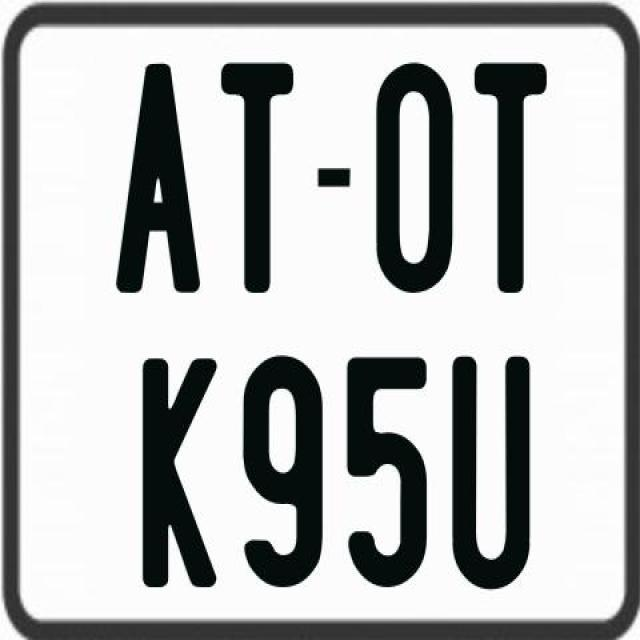0: (376, 61, 456, 296)
5: (346, 354, 429, 588)
9: (238, 355, 326, 587)
A: (113, 63, 200, 300)
K: (140, 355, 223, 592)
T: (221, 58, 299, 298), (472, 59, 547, 296)
U: (450, 353, 534, 588)
